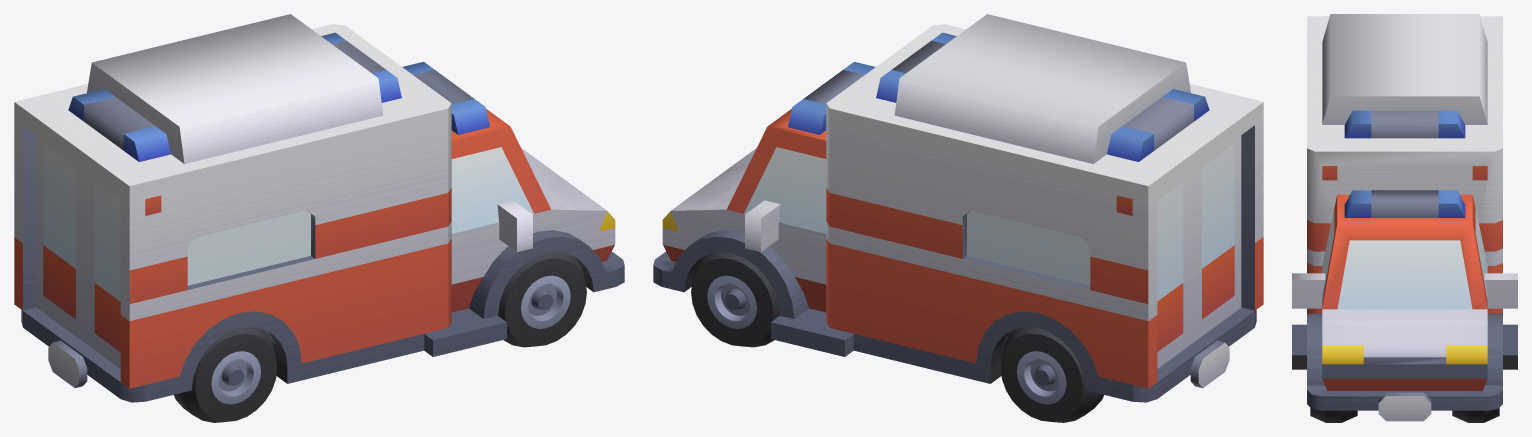
The model's file is car01.glb.
3 renders of one model, left to right at view 1: azimuth 30°, elevation 25°; view 2: azimuth 150°, elevation 25°; view 3: azimuth 270°, elevation 25°, orthographic. The views are drawn at different scales.
Visible parts, largest first — view 1: 救护车; view 2: 救护车; view 3: 救护车.
Part boxes in pixels (box(x1,y1,x2,y2)): 救护车: box(14, 14, 624, 422); 救护车: box(653, 14, 1263, 422); 救护车: box(1292, 14, 1517, 422).
Size of the model in its own units: 3.6 by 2.02 by 1.6.
Materials: 1 (1 with a texture image).
